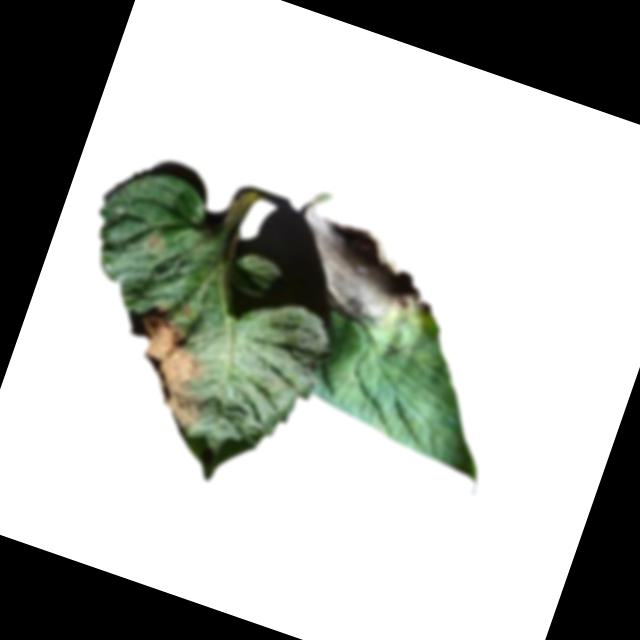Late_blight: (277, 210, 449, 343), (102, 298, 233, 440), (140, 228, 167, 257)
